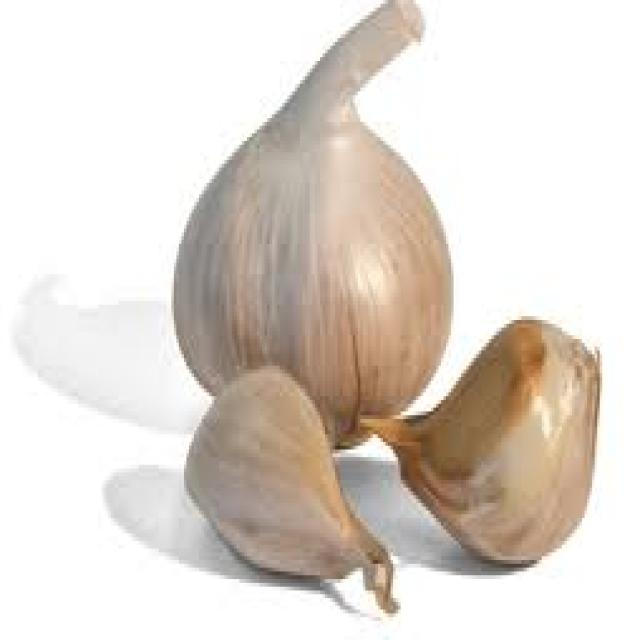garlic: (169, 0, 617, 598)
